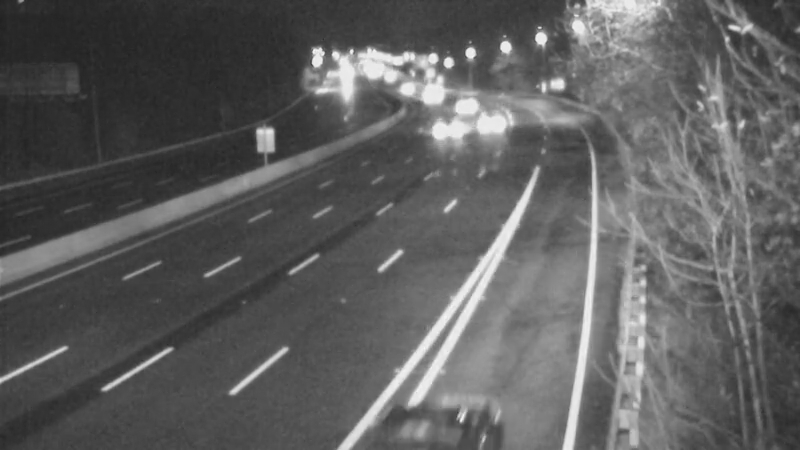vehicle: (376, 61, 426, 111), (404, 71, 454, 121), (433, 78, 483, 128), (468, 99, 518, 149), (419, 107, 469, 157)
